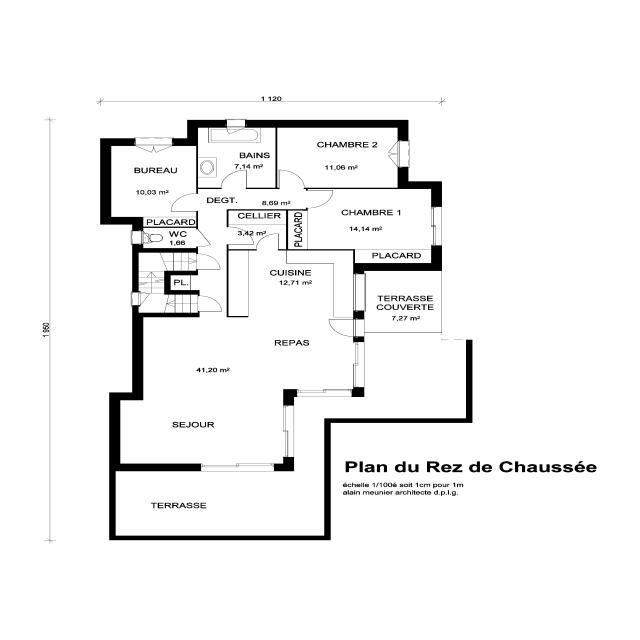door: (325, 316, 359, 338), (134, 136, 176, 152), (278, 168, 306, 189), (169, 192, 199, 211), (306, 188, 334, 208), (195, 294, 224, 313), (220, 170, 247, 190), (194, 253, 222, 271), (255, 232, 281, 250), (222, 120, 248, 137), (131, 291, 147, 306)
window: (276, 403, 297, 460), (428, 204, 446, 247), (349, 272, 364, 314), (293, 387, 357, 396), (396, 138, 412, 170), (130, 230, 142, 245)
zone: (143, 311, 359, 394), (116, 391, 286, 467), (296, 187, 436, 254), (225, 252, 352, 315), (277, 127, 400, 188), (110, 143, 198, 220), (198, 128, 276, 188), (136, 252, 184, 290), (136, 293, 197, 315), (140, 227, 197, 250), (227, 208, 288, 226)
